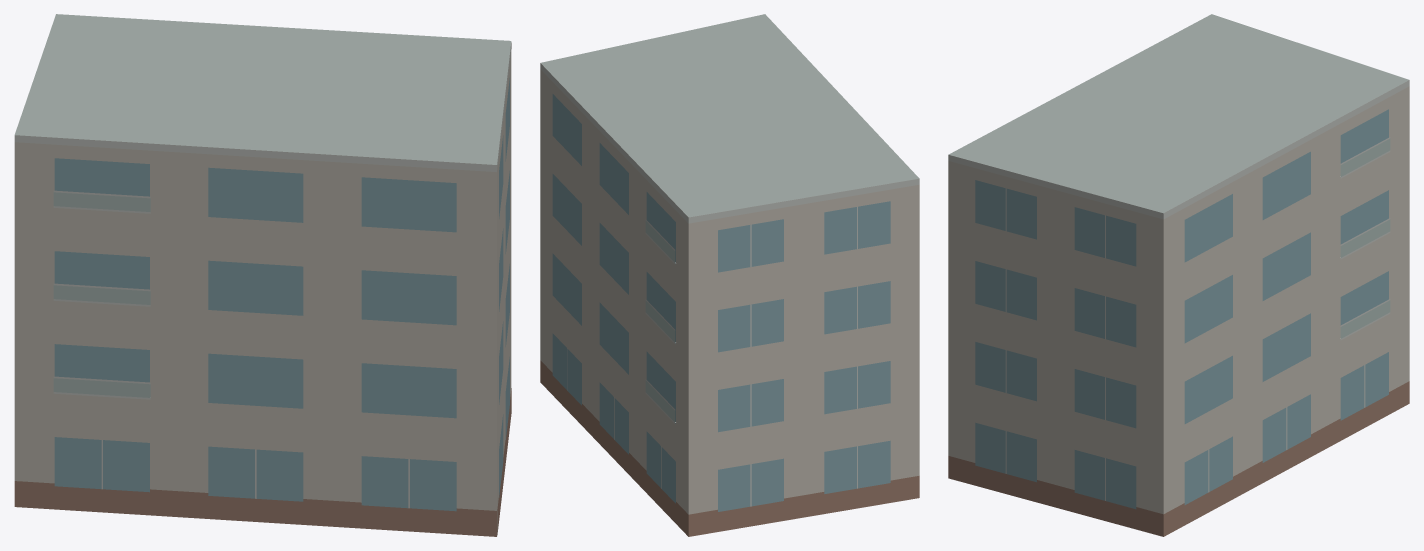
File: survey-upis-32888596.glb
3 renders of one model, left to right at view 1: azimuth 30°, elevation 25°; view 2: azimuth 150°, elevation 25°; view 3: azimuth 270°, elevation 25°, orthographic. The views are drawn at different scales.
Parts seen in each view (by area): view 1: survey-upis-32888596.tmp; view 2: survey-upis-32888596.tmp; view 3: survey-upis-32888596.tmp.
Part boxes in pixels (x1,y1,x2,y2): survey-upis-32888596.tmp: [14, 14, 511, 536]; survey-upis-32888596.tmp: [540, 14, 919, 536]; survey-upis-32888596.tmp: [948, 14, 1409, 536].
Bounding box in the file's own units: 16.92 × 12.8 × 16.55.
